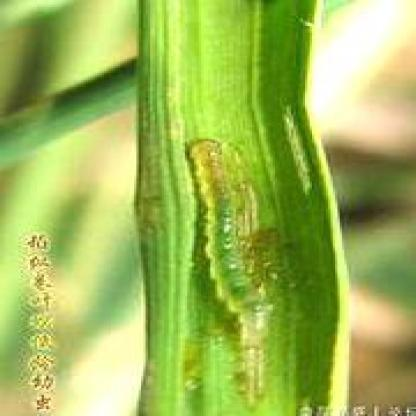leaf-folder: (167, 132, 292, 356)
